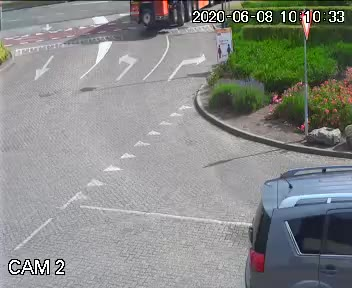car: (235, 144, 352, 288), (115, 0, 212, 40)
